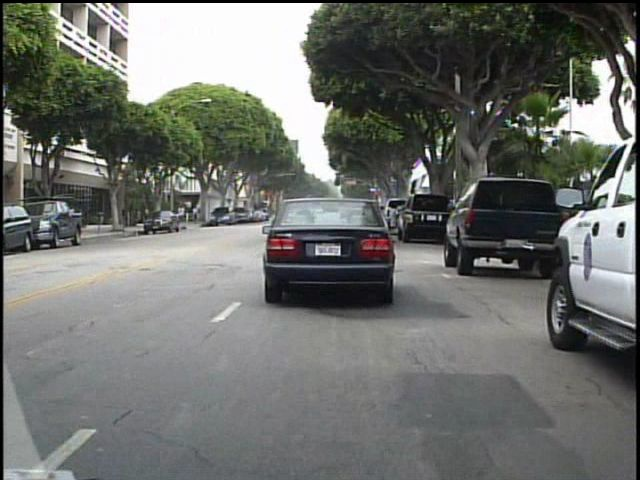person: (175, 203, 189, 227), (192, 202, 202, 226)
